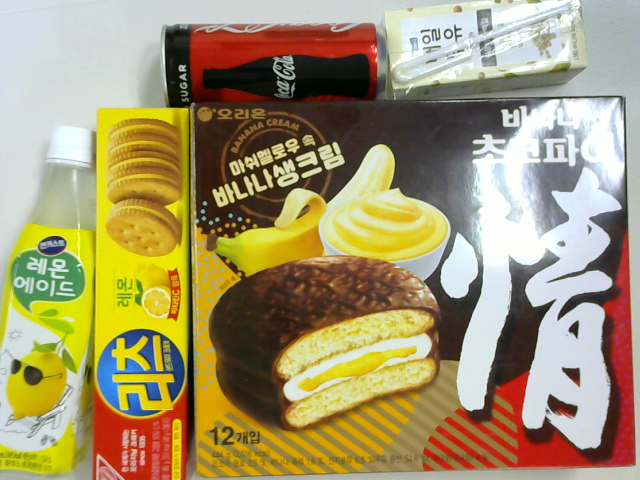99.89_Soymilk: (380, 1, 594, 95)
Choco_Pie_Banana: (184, 91, 638, 480)
Coca_Cola_Zero_Can_250ml: (145, 13, 393, 113)
Ritz_Remon_96g: (82, 100, 203, 480)
Sunkist_Lemonaid_Pet: (1, 113, 103, 470)
